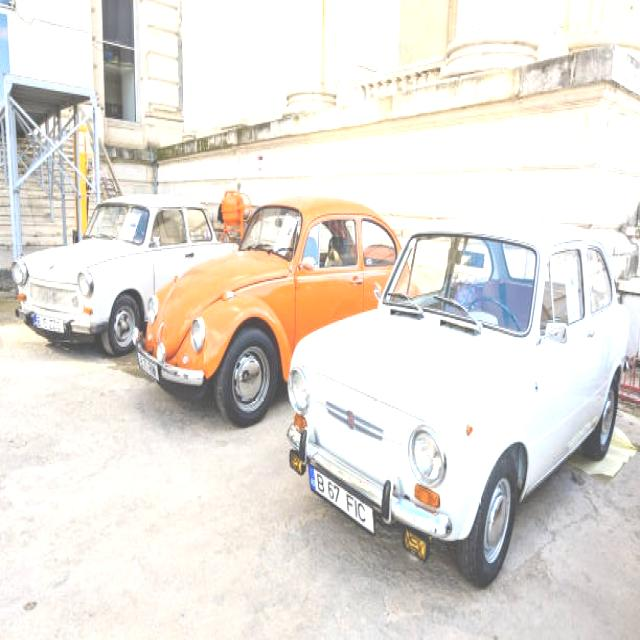car: (298, 226, 633, 554), (140, 192, 431, 413), (14, 189, 242, 357)
